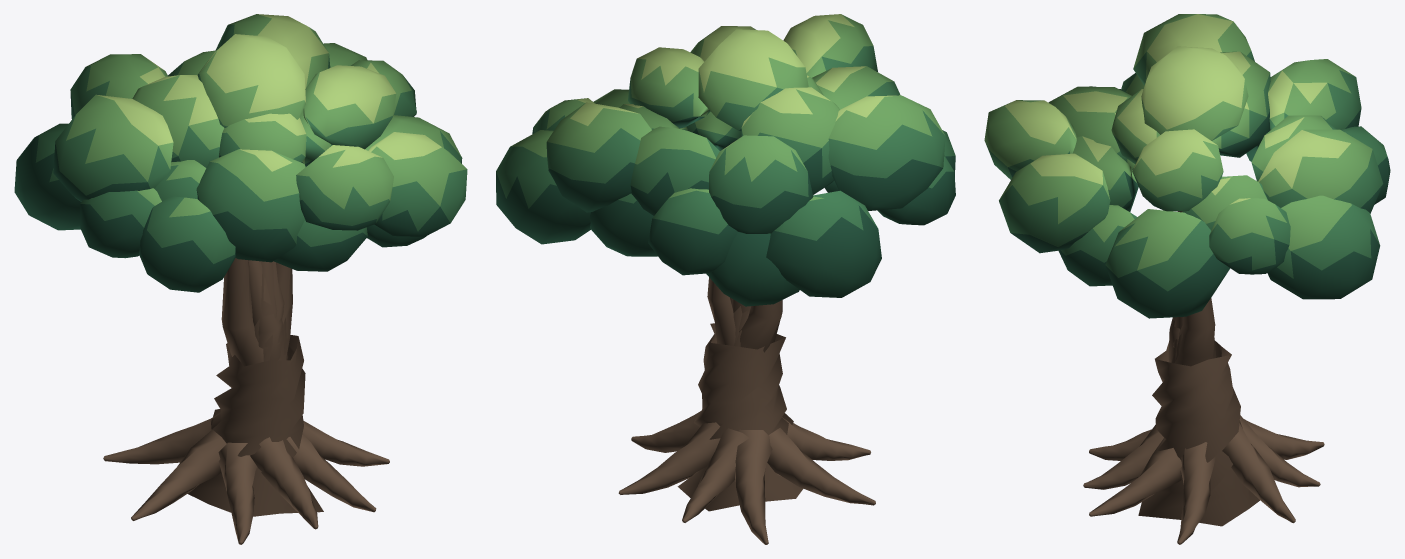
Rendered from Elder_LOD.glb.
3 renders of one model, left to right at view 1: azimuth 30°, elevation 25°; view 2: azimuth 150°, elevation 25°; view 3: azimuth 270°, elevation 25°, orthographic. The views are drawn at different scales.
Parts seen in each view (by area): view 1: Elder_LOD.bark, Elder_LOD.leafLight, Elder_LOD.leafMid, Elder_LOD.leafDark, Elder_LOD.leafGold; view 2: Elder_LOD.leafDark, Elder_LOD.bark, Elder_LOD.leafMid, Elder_LOD.leafLight, Elder_LOD.leafGold; view 3: Elder_LOD.leafLight, Elder_LOD.bark, Elder_LOD.leafMid, Elder_LOD.leafGold, Elder_LOD.leafDark.
Boxes of the visible parts, x1=… form: Elder_LOD.bark: x1=103, y1=258, x2=389, y2=544; Elder_LOD.leafLight: x1=66, y1=14, x2=467, y2=217; Elder_LOD.leafMid: x1=35, y1=24, x2=467, y2=263; Elder_LOD.leafDark: x1=14, y1=90, x2=462, y2=292; Elder_LOD.leafGold: x1=96, y1=14, x2=441, y2=171; Elder_LOD.leafDark: x1=496, y1=71, x2=955, y2=306; Elder_LOD.bark: x1=618, y1=277, x2=875, y2=544; Elder_LOD.leafMid: x1=496, y1=46, x2=955, y2=240; Elder_LOD.leafLight: x1=510, y1=14, x2=944, y2=200; Elder_LOD.leafGold: x1=570, y1=14, x2=900, y2=149; Elder_LOD.leafLight: x1=984, y1=14, x2=1372, y2=270; Elder_LOD.bark: x1=1083, y1=211, x2=1324, y2=544; Elder_LOD.leafMid: x1=985, y1=51, x2=1387, y2=291; Elder_LOD.leafGold: x1=1005, y1=14, x2=1350, y2=204; Elder_LOD.leafDark: x1=1008, y1=108, x2=1390, y2=318.
Size of the model in its own units: 60.03 by 69.51 by 57.06.
